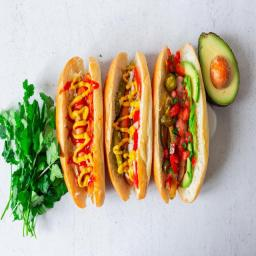hotdog: (61, 46, 103, 214)
